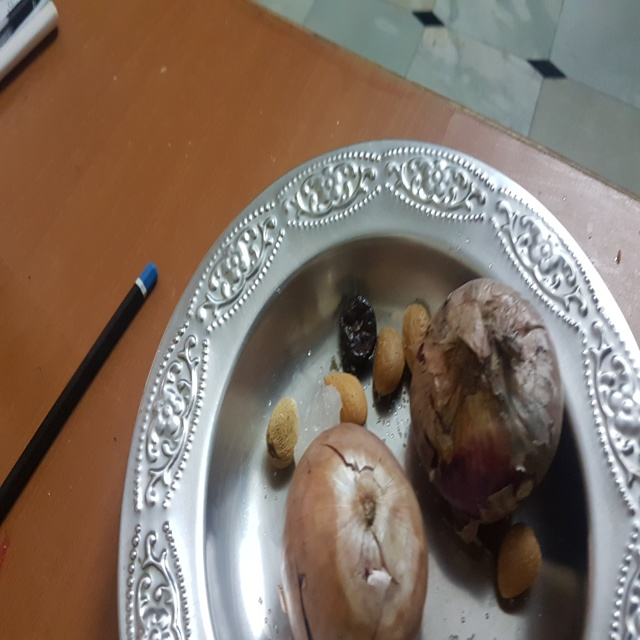onion: (398, 275, 579, 504), (275, 423, 429, 640)
